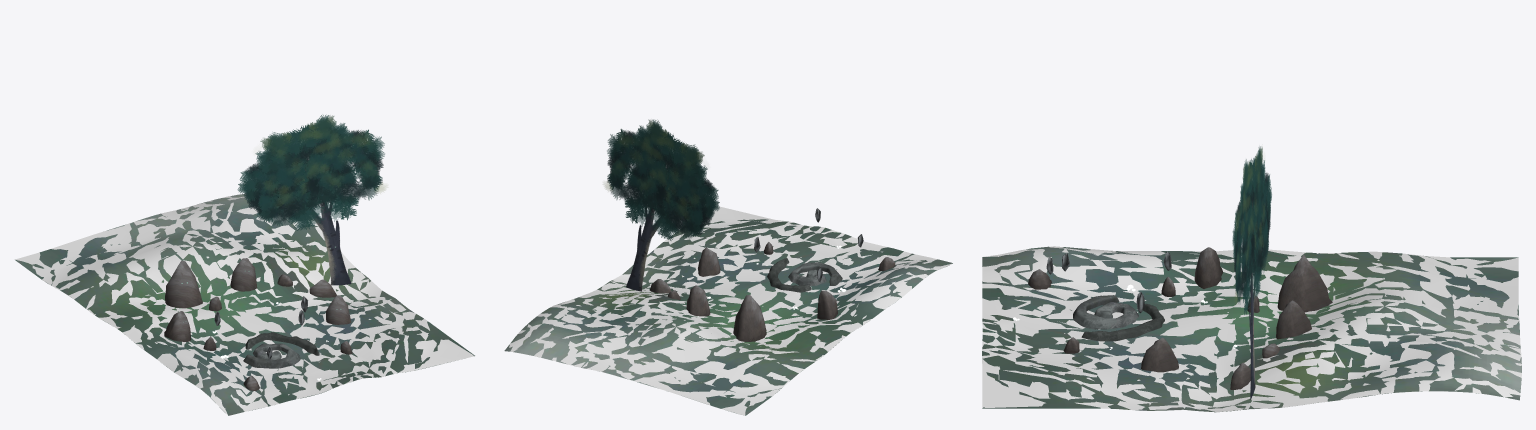
The model's file is chapter4.glb.
3 views of the same model, side by side, from view 1: azimuth 30°, elevation 25°; view 2: azimuth 150°, elevation 25°; view 3: azimuth 270°, elevation 25° (orthographic). The views are drawn at different scales.
Parts seen in each view (by area): view 1: floor-grass, floor-low-poly, tree, spiral, rock-w-eye_1, rock-w-eye_4, rock-w-eye_3, rock-w-eye_2; view 2: floor-grass, floor-low-poly, tree, spiral, rock-w-eye_1, rock-w-eye_4, rock-w-eye_3, rock-w-eye_2; view 3: floor-grass, floor-low-poly, tree, spiral, rock-w-eye_1, rock-w-eye_4, rock-w-eye_2, rock-w-eye_3.
Part boxes in pixels (x1=…): floor-grass: x1=15, y1=193, x2=474, y2=415; floor-low-poly: x1=15, y1=196, x2=473, y2=414; tree: x1=237, y1=115, x2=385, y2=285; spiral: x1=243, y1=332, x2=319, y2=368; rock-w-eye_1: x1=165, y1=260, x2=202, y2=308; rock-w-eye_4: x1=230, y1=258, x2=257, y2=291; rock-w-eye_3: x1=164, y1=311, x2=191, y2=341; rock-w-eye_2: x1=326, y1=295, x2=351, y2=324; floor-grass: x1=504, y1=219, x2=952, y2=415; floor-low-poly: x1=504, y1=206, x2=952, y2=415; tree: x1=604, y1=119, x2=719, y2=291; spiral: x1=767, y1=258, x2=842, y2=292; rock-w-eye_1: x1=733, y1=295, x2=766, y2=341; rock-w-eye_4: x1=686, y1=285, x2=710, y2=316; rock-w-eye_3: x1=817, y1=290, x2=837, y2=319; rock-w-eye_2: x1=698, y1=247, x2=720, y2=276; floor-grass: x1=982, y1=246, x2=1521, y2=412; floor-low-poly: x1=982, y1=246, x2=1521, y2=412; tree: x1=1232, y1=146, x2=1271, y2=399; spiral: x1=1073, y1=295, x2=1164, y2=341; rock-w-eye_1: x1=1277, y1=254, x2=1332, y2=312; rock-w-eye_4: x1=1276, y1=300, x2=1311, y2=339; rock-w-eye_2: x1=1141, y1=337, x2=1178, y2=372; rock-w-eye_3: x1=1194, y1=247, x2=1222, y2=288.
Size of the model in its own units: 23.68 by 23.19 by 30.2.
Materials: 7 (6 with a texture image).
